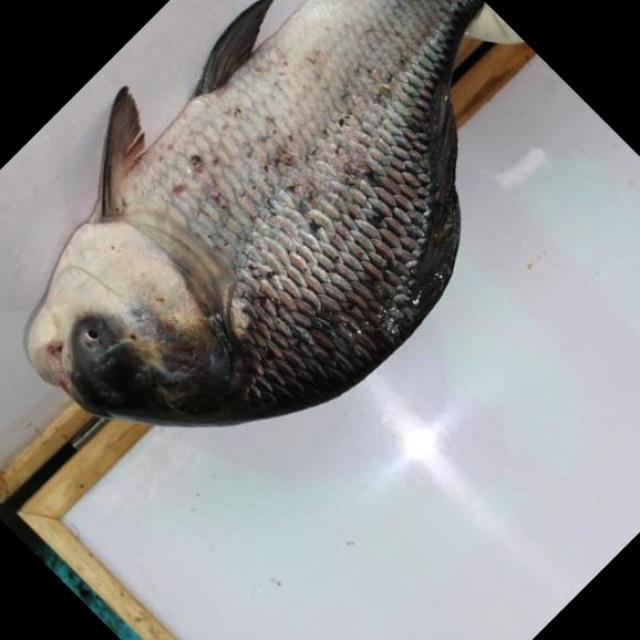Catla: (27, 0, 490, 427)
